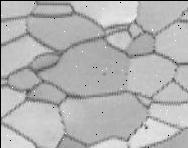good_void: (141, 124, 149, 129)
